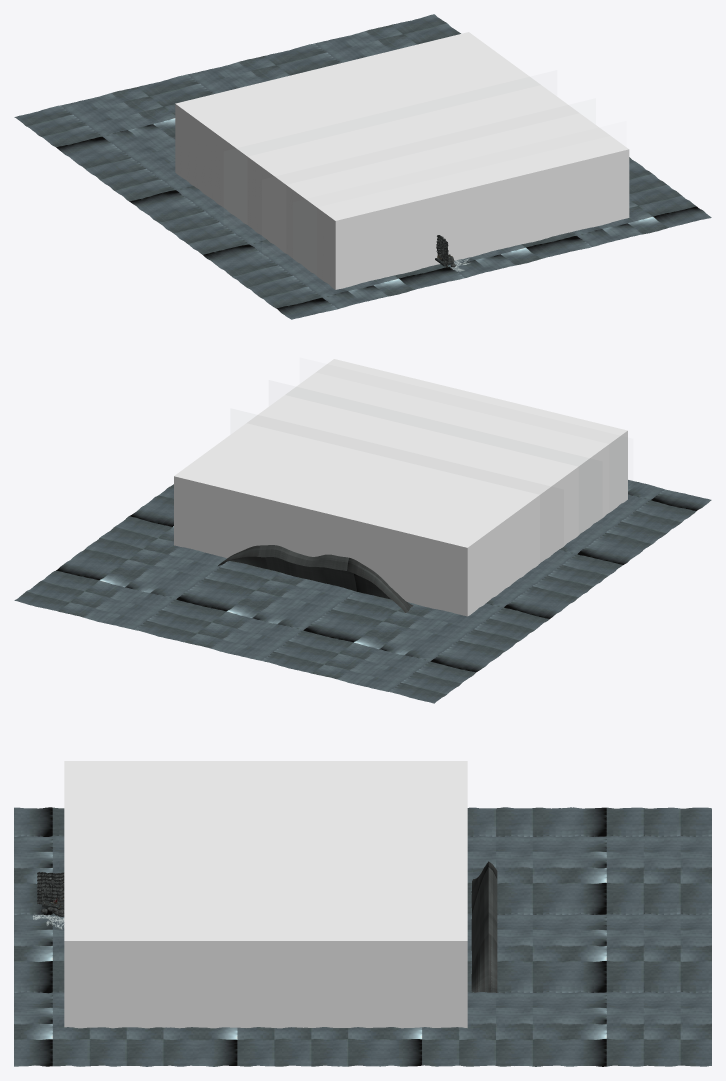
3 renders of one model, top to bottom at view 1: azimuth 30°, elevation 25°; view 2: azimuth 150°, elevation 25°; view 3: azimuth 270°, elevation 25°, orthographic. The views are drawn at different scales.
Parts seen in each view (by area): view 1: Mist_Layer, Sea_Surface; view 2: Mist_Layer, Sea_Surface, Headland_Far; view 3: Mist_Layer, Sea_Surface, Headland_Far, Cliff_Left.
Part boxes in pixels (box(x1,y1,x2,y2)): Mist_Layer: box(175, 32, 629, 289); Sea_Surface: box(14, 14, 711, 319); Mist_Layer: box(174, 359, 627, 616); Sea_Surface: box(14, 480, 711, 703); Headland_Far: box(218, 545, 413, 612); Mist_Layer: box(64, 761, 467, 1028); Sea_Surface: box(14, 807, 711, 1066); Headland_Far: box(471, 861, 497, 992); Cliff_Left: box(37, 871, 64, 904).
Size of the model in its own units: 158 by 30 by 180.
Materials: 28 (18 with a texture image).
